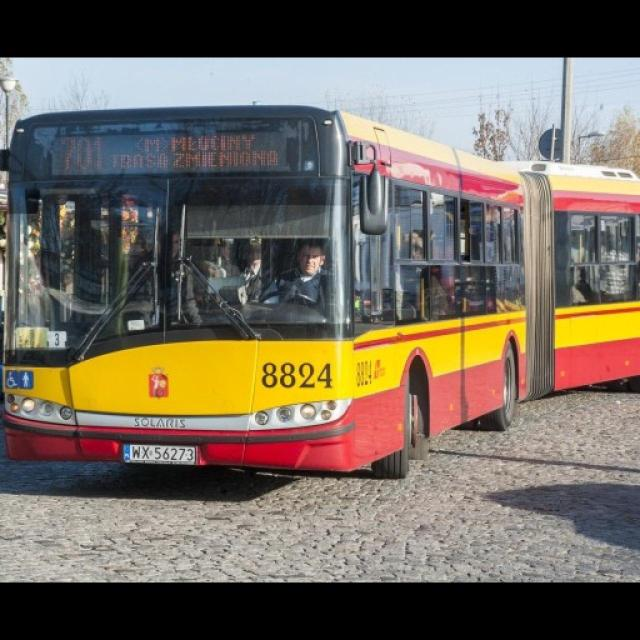Bus: (0, 106, 640, 478)
